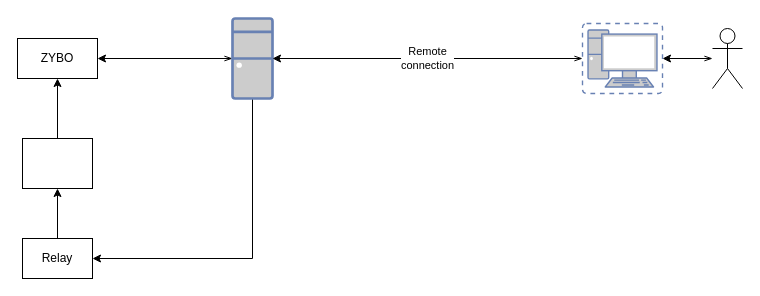
Some shapes in this 760 by 296 pixel diagram are drawn without their labels. Each missing label, with the centre of its shape:
"Breadboard" belongs at [57,163].
"User" belongs at [727,58].
